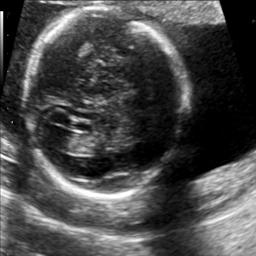normal: (22, 5, 188, 196)
